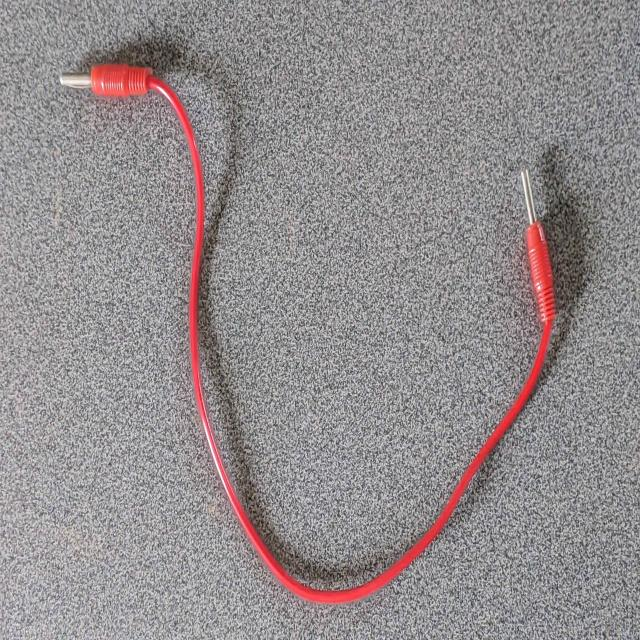BNC Cable: (54, 36, 568, 619)
